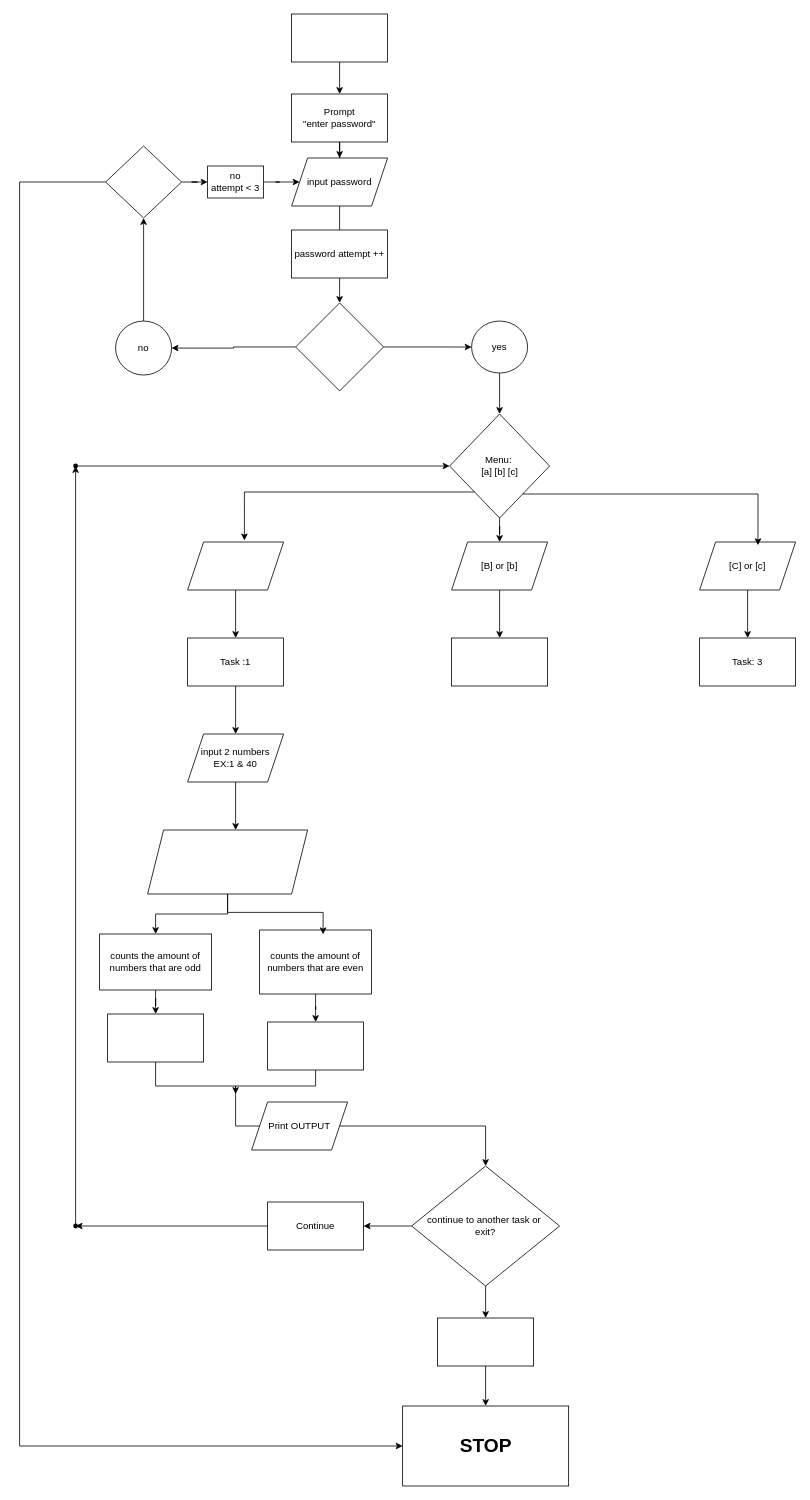
Image size: 810x1500. Some labels were removed from this diagram. The box of each missing label's shape, as (x1, y1, x2, y2) in pixels:
[A] or [a]: (187, 541, 284, 590)
adds the even numbers together: (267, 1021, 364, 1070)
adds the odd numbers together: (107, 1013, 204, 1062)
exit: (437, 1317, 534, 1366)
is attempt = 3?: (105, 145, 182, 218)
Is password ccorrect?: (295, 302, 384, 391)
OUTPUT prints triangular numbers EX; 1, 3, 6, 10, 15, 21, 28,36: (147, 829, 308, 894)
START: (291, 13, 388, 62)
Task: 2: (451, 637, 548, 686)
